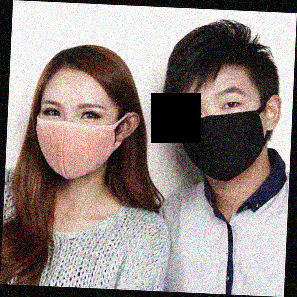with_mask: (176, 85, 267, 184), (34, 98, 115, 184)
